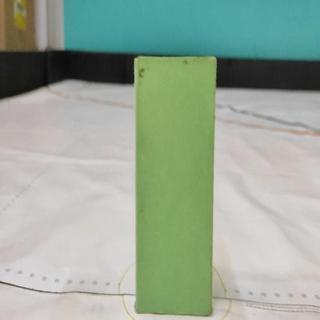greenbox: (134, 57, 212, 317)
